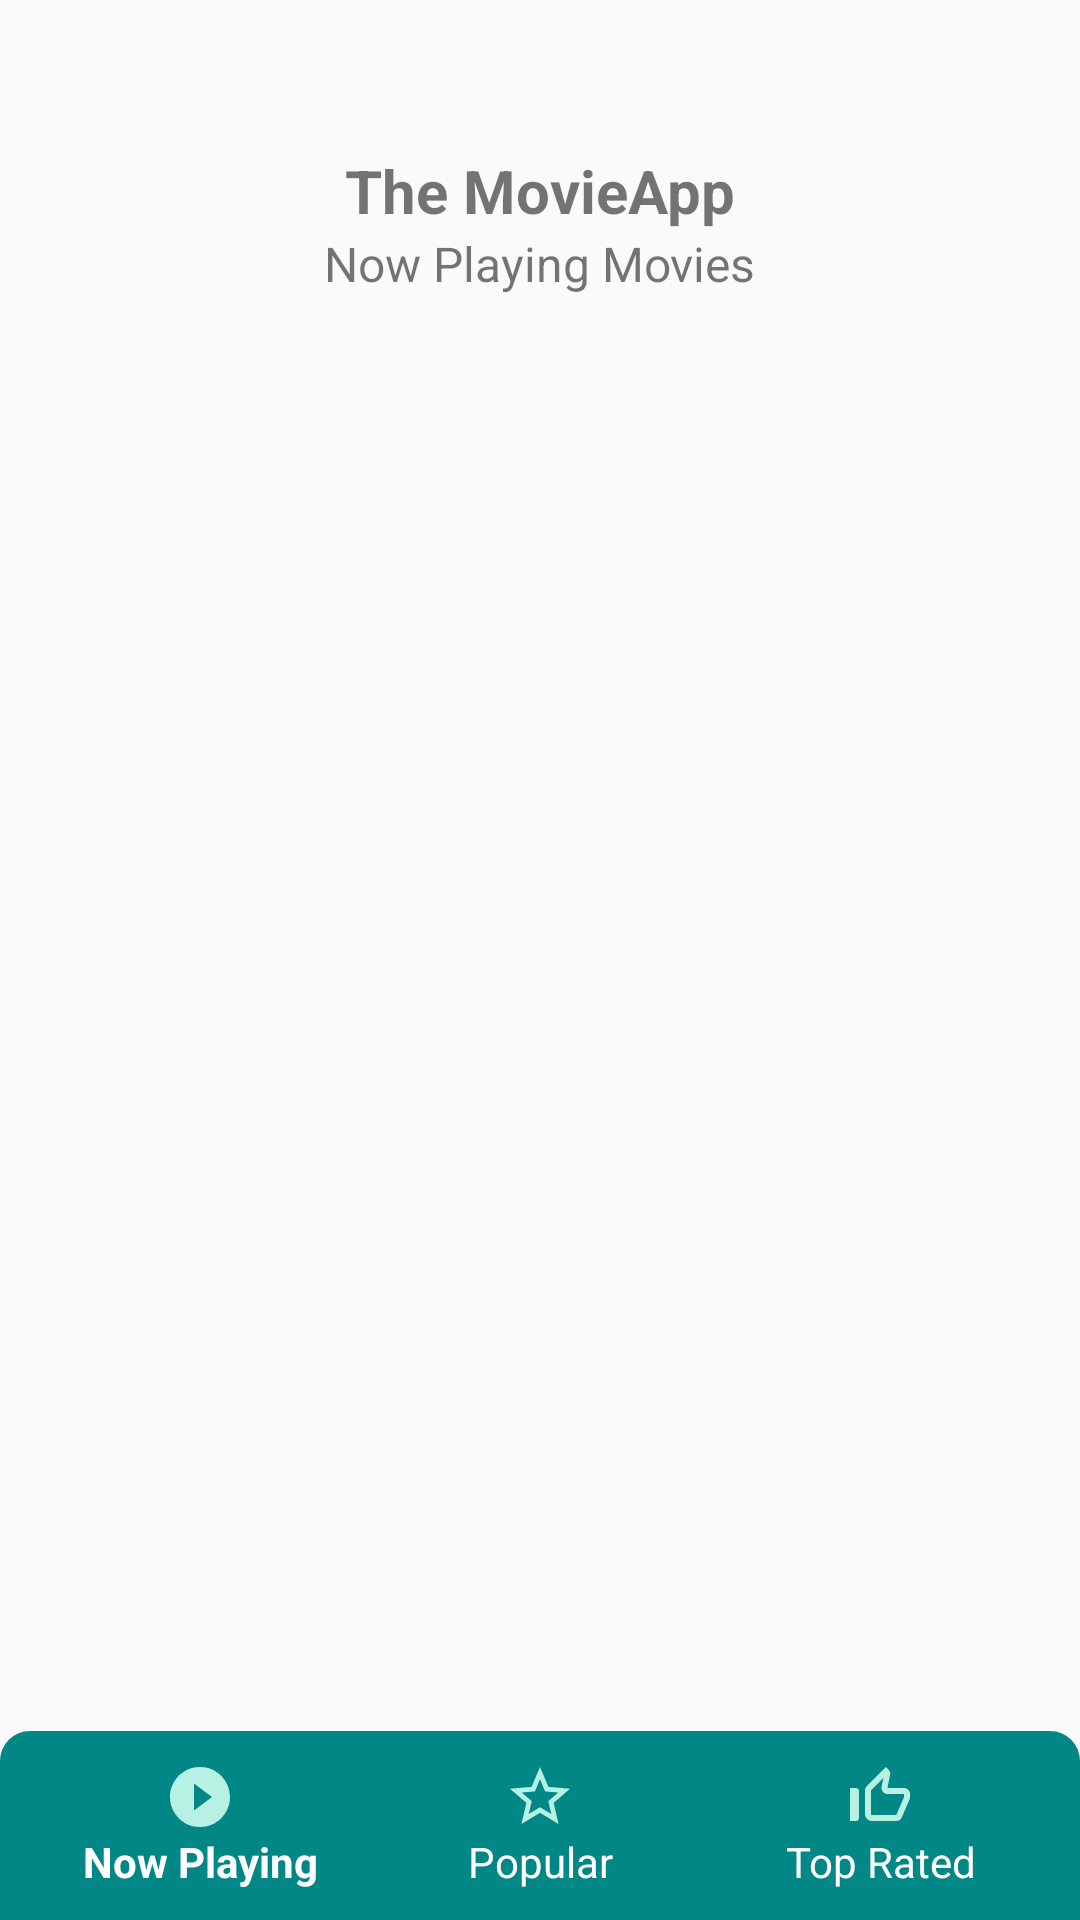

Screen size 1080px x 1920px. Icon name, then its box in pixels as (x1, y1, x2, y2):
star: (510, 1767, 570, 1824)
thumb: (850, 1767, 910, 1821)
